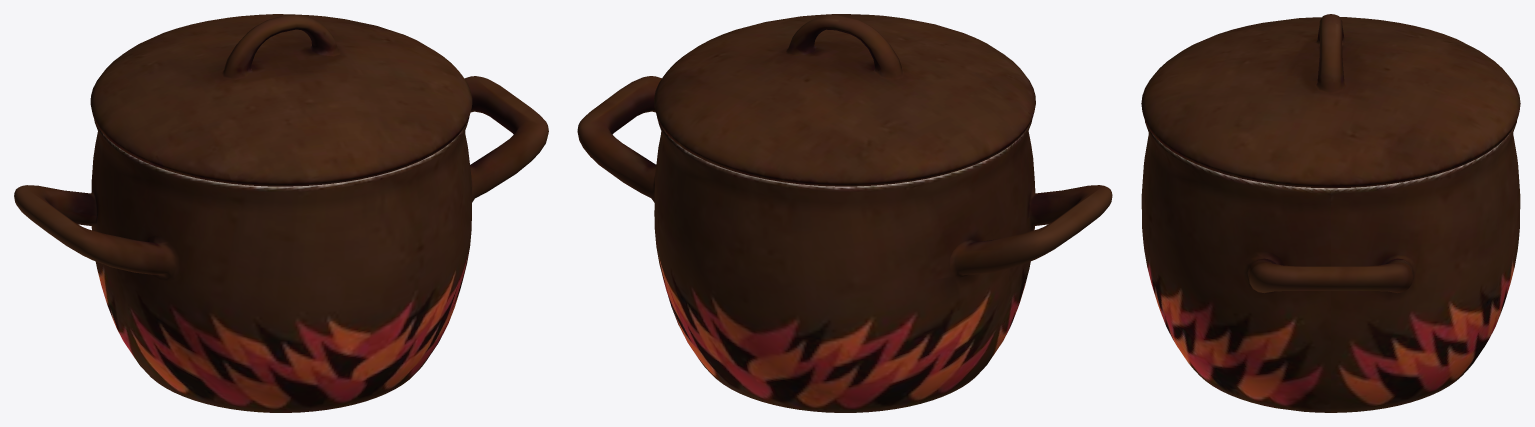
Rendered from pot_enamel_01.glb.
3 views of the same model, side by side, from view 1: azimuth 30°, elevation 25°; view 2: azimuth 150°, elevation 25°; view 3: azimuth 270°, elevation 25° (orthographic).
Visible parts, largest first — view 1: pot_enamel_01_lid; view 2: pot_enamel_01_lid; view 3: pot_enamel_01_lid.
Boxes of the visible parts, bbox=[...] form: pot_enamel_01_lid: bbox=[14, 14, 548, 412]; pot_enamel_01_lid: bbox=[577, 14, 1112, 412]; pot_enamel_01_lid: bbox=[1141, 14, 1520, 412].
Bounding box in the file's own units: 0.2627 × 0.1782 × 0.1805.
1 material, 1 textured.
